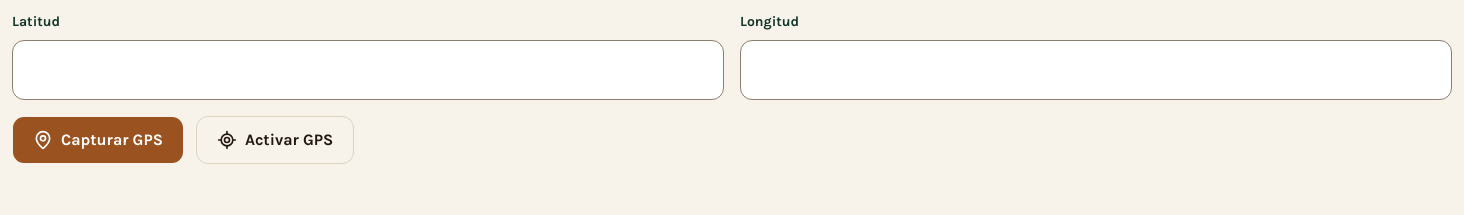
Test: farm location capture › GPS precision › stops talking about the precision once the person edits the point
The image size is (1464, 215).
Click the button "Capturar GPS" at (98,140), box [12, 116, 184, 164]
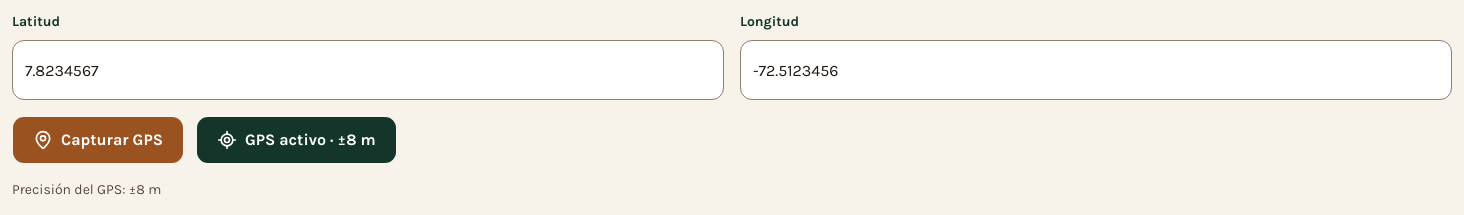
Expected: the message "Precisión del GPS: ±8 m" is shown, [12, 181, 161, 198]
Type "1" into the field labelled "Latitud" at (368,70), box [12, 40, 724, 100]
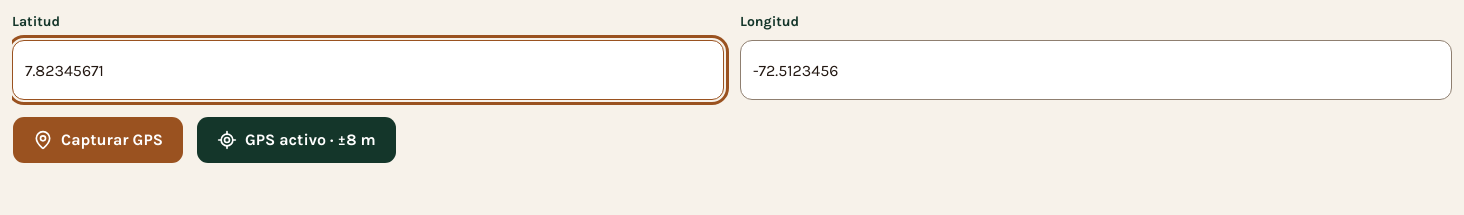
Expected: the message "Precisión del GPS: ±8 m" is gone
